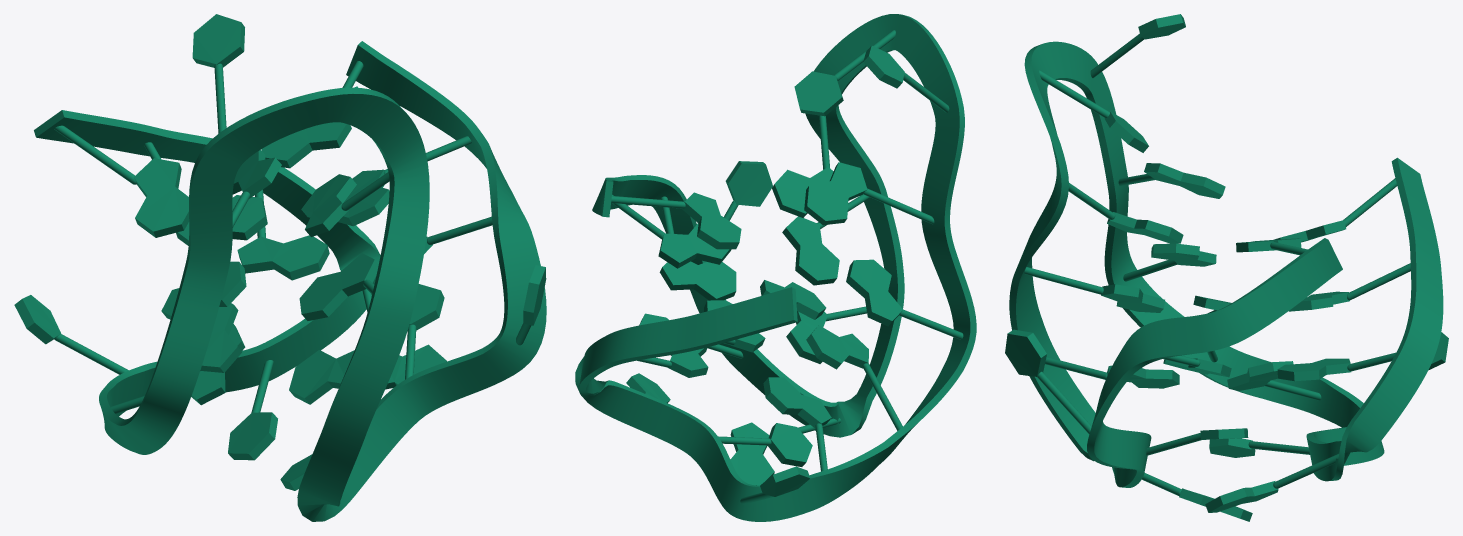
The model's file is G_DNA.glb.
The picture shows the model from 3 angles, left to right: view 1: azimuth 30°, elevation 25°; view 2: azimuth 150°, elevation 25°; view 3: azimuth 270°, elevation 25°; orthographic projection. The views are drawn at different scales.
Bounding box in the file's own units: 21.45 × 27 × 23.66.
